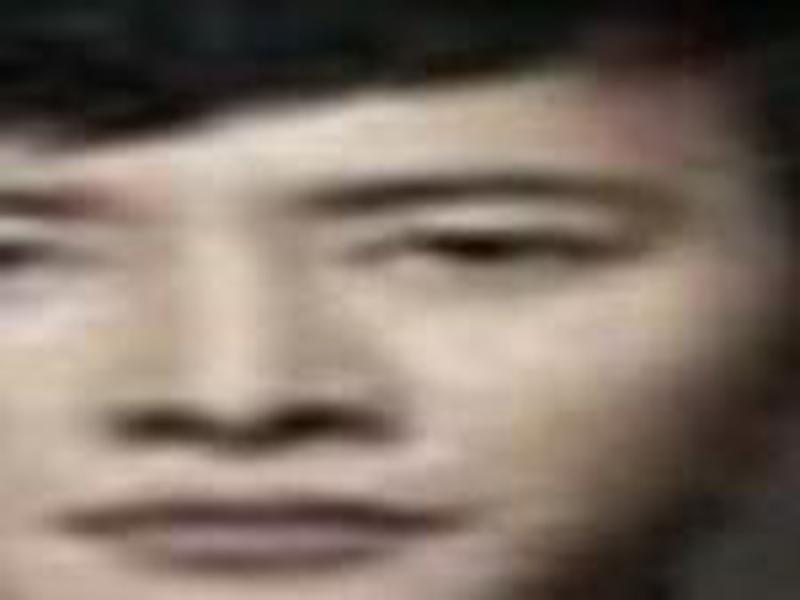without_mask: (8, 72, 763, 600)
